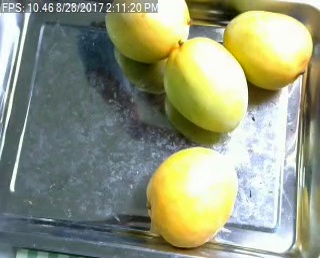Mango: (145, 146, 238, 248), (164, 38, 246, 128), (223, 12, 313, 88), (104, 0, 190, 62)
